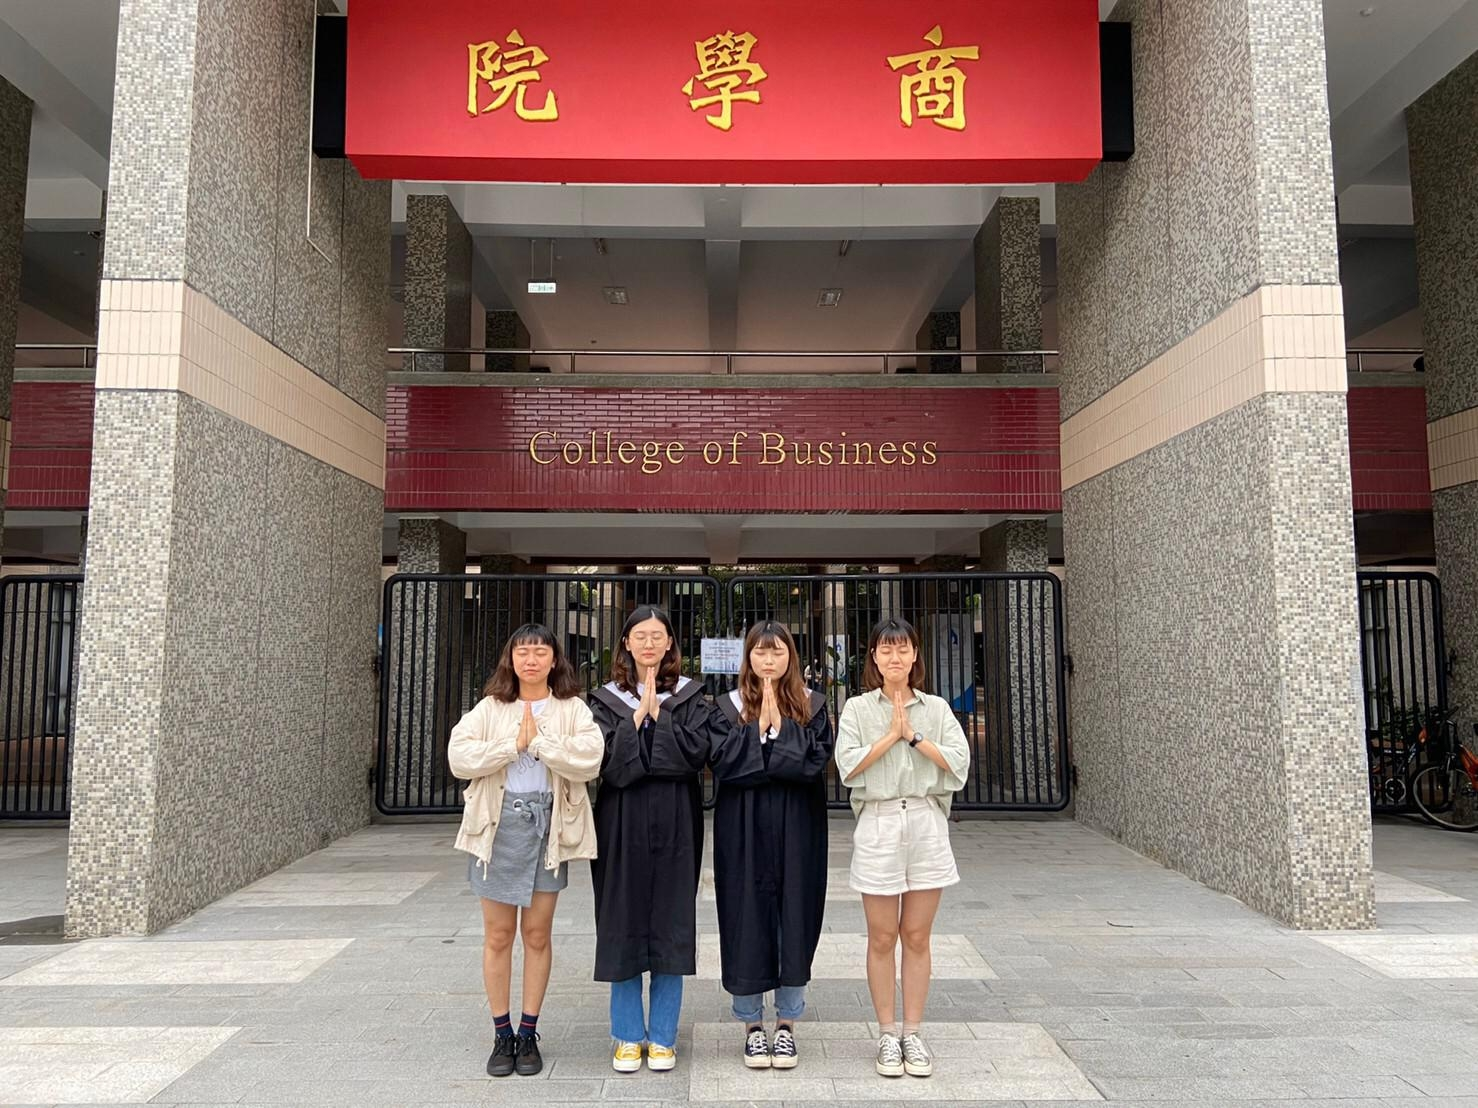people: (719, 630, 838, 1080), (465, 619, 571, 1080), (846, 615, 948, 1080), (615, 598, 700, 1080)
